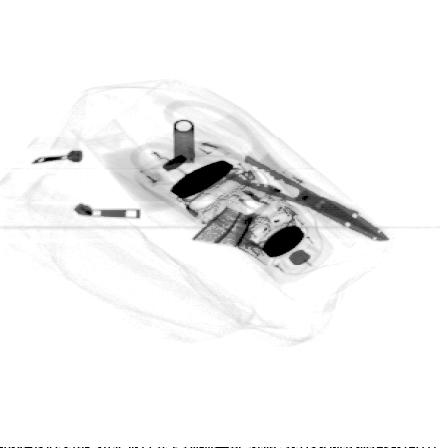Scissors: (126, 99, 390, 242)
